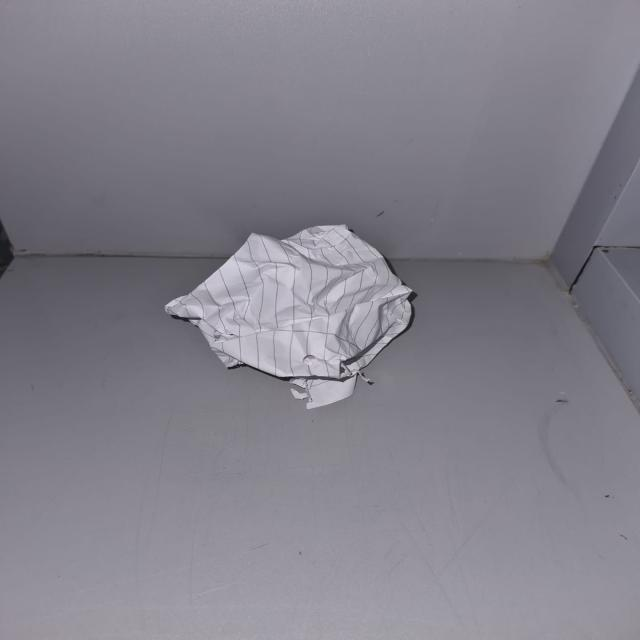Paper: (161, 218, 412, 408)
